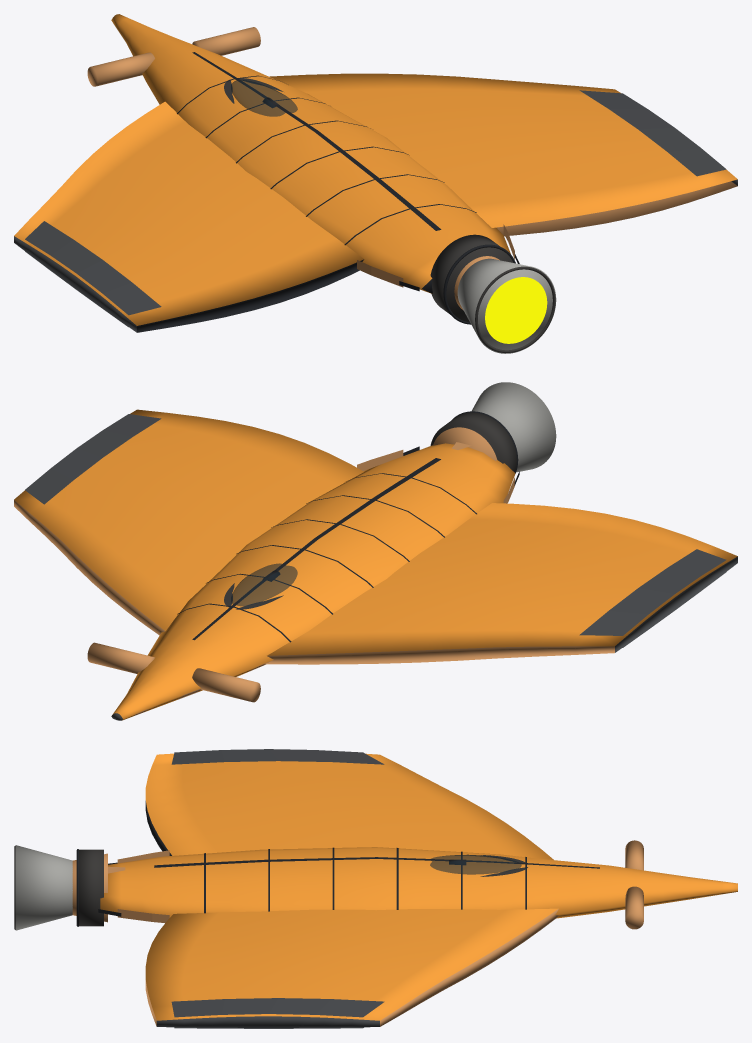
Rendered from Ship_ManraRay_130405.glb.
3 views of the same model, one above another, from view 1: azimuth 30°, elevation 25°; view 2: azimuth 150°, elevation 25°; view 3: azimuth 270°, elevation 25° (orthographic). The views are drawn at different scales.
Parts seen in each view (by area): view 1: Wing_Left_MantaAerofoil, Wing_Right_MantaAerofoil, Fuselage_CentralRayHull_FacetedAeroBody, WingTipTrim_Left_HardCutOuterPlate_Top, EngineBell_CentralMainRocketNozzle, WingTipTrim_Right_HardCutOuterPlate_Top, EngineEmitter, EngineMount_AftCentralTailBlock, CanopyGlass_LowInsetMantaDome, NoseHammer_Left_ForwardSensorLobe, NoseHammer_Right_ForwardSensorLobe, DorsalKeel_DarkCenterSpine (+1 smaller); view 2: Wing_Left_MantaAerofoil, Wing_Right_MantaAerofoil, Fuselage_CentralRayHull_FacetedAeroBody, EngineBell_CentralMainRocketNozzle, WingTipTrim_Left_HardCutOuterPlate_Top, WingTipTrim_Right_HardCutOuterPlate_Top, CanopyGlass_LowInsetMantaDome, EngineMount_AftCentralTailBlock, NoseHammer_Left_ForwardSensorLobe, NoseHammer_Right_ForwardSensorLobe, DorsalKeel_DarkCenterSpine, EngineShroud_AftBlendedRocketFairing; view 3: Wing_Right_MantaAerofoil, Fuselage_CentralRayHull_FacetedAeroBody, Wing_Left_MantaAerofoil, EngineBell_CentralMainRocketNozzle, WingTipTrim_Right_HardCutOuterPlate_Top, WingTipTrim_Left_HardCutOuterPlate_Top, EngineMount_AftCentralTailBlock, CanopyGlass_LowInsetMantaDome, DorsalKeel_DarkCenterSpine, NoseHammer_Right_ForwardSensorLobe, NoseHammer_Left_ForwardSensorLobe, EngineShroud_AftBlendedRocketFairing.
Part boxes in pixels (<box>): Wing_Left_MantaAerofoil: <box>14,101,364,332</box>; Wing_Right_MantaAerofoil: <box>269,73,737,236</box>; Fuselage_CentralRayHull_FacetedAeroBody: <box>111,14,510,293</box>; WingTipTrim_Left_HardCutOuterPlate_Top: <box>25,221,161,315</box>; EngineBell_CentralMainRocketNozzle: <box>457,258,556,353</box>; WingTipTrim_Right_HardCutOuterPlate_Top: <box>579,90,726,176</box>; EngineEmitter: <box>485,277,547,343</box>; EngineMount_AftCentralTailBlock: <box>430,234,513,322</box>; CanopyGlass_LowInsetMantaDome: <box>231,80,297,116</box>; NoseHammer_Left_ForwardSensorLobe: <box>87,52,154,86</box>; NoseHammer_Right_ForwardSensorLobe: <box>192,27,260,55</box>; DorsalKeel_DarkCenterSpine: <box>192,52,441,230</box>; Wing_Left_MantaAerofoil: <box>265,503,737,664</box>; Wing_Right_MantaAerofoil: <box>14,409,363,635</box>; Fuselage_CentralRayHull_FacetedAeroBody: <box>111,443,515,720</box>; EngineBell_CentralMainRocketNozzle: <box>472,382,556,472</box>; WingTipTrim_Left_HardCutOuterPlate_Top: <box>579,549,726,635</box>; WingTipTrim_Right_HardCutOuterPlate_Top: <box>25,414,161,504</box>; CanopyGlass_LowInsetMantaDome: <box>231,563,297,606</box>; EngineMount_AftCentralTailBlock: <box>430,412,516,472</box>; NoseHammer_Left_ForwardSensorLobe: <box>192,668,260,702</box>; NoseHammer_Right_ForwardSensorLobe: <box>87,642,154,673</box>; DorsalKeel_DarkCenterSpine: <box>192,458,440,640</box>; EngineShroud_AftBlendedRocketFairing: <box>433,427,497,460</box>; Wing_Right_MantaAerofoil: <box>145,908,559,1027</box>; Fuselage_CentralRayHull_FacetedAeroBody: <box>100,847,737,918</box>; Wing_Left_MantaAerofoil: <box>145,753,553,859</box>; EngineBell_CentralMainRocketNozzle: <box>15,845,72,930</box>; WingTipTrim_Right_HardCutOuterPlate_Top: <box>171,998,384,1017</box>; WingTipTrim_Left_HardCutOuterPlate_Top: <box>171,749,384,764</box>; EngineMount_AftCentralTailBlock: <box>79,849,103,926</box>; CanopyGlass_LowInsetMantaDome: <box>430,854,521,874</box>; DorsalKeel_DarkCenterSpine: <box>154,857,599,868</box>; NoseHammer_Right_ForwardSensorLobe: <box>625,886,643,929</box>; NoseHammer_Left_ForwardSensorLobe: <box>625,840,643,870</box>; EngineShroud_AftBlendedRocketFairing: <box>72,853,107,922</box>.
Size of the model in its own units: 7.05 by 0.9613 by 8.11.
